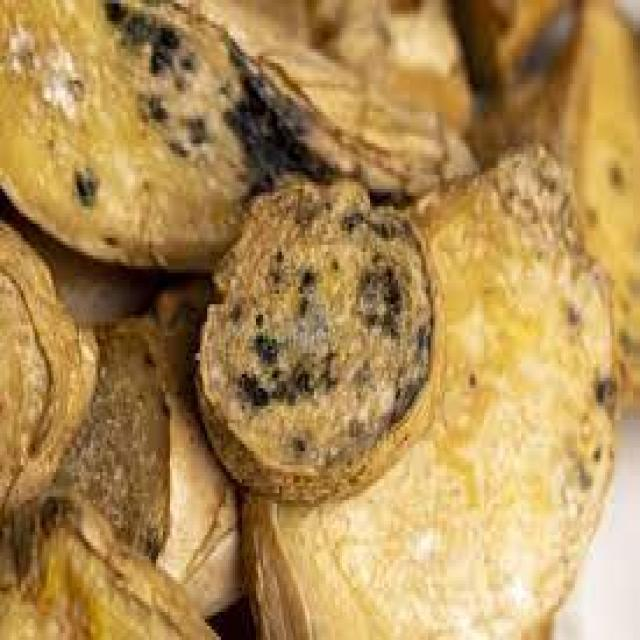ginger: (11, 14, 622, 584)
